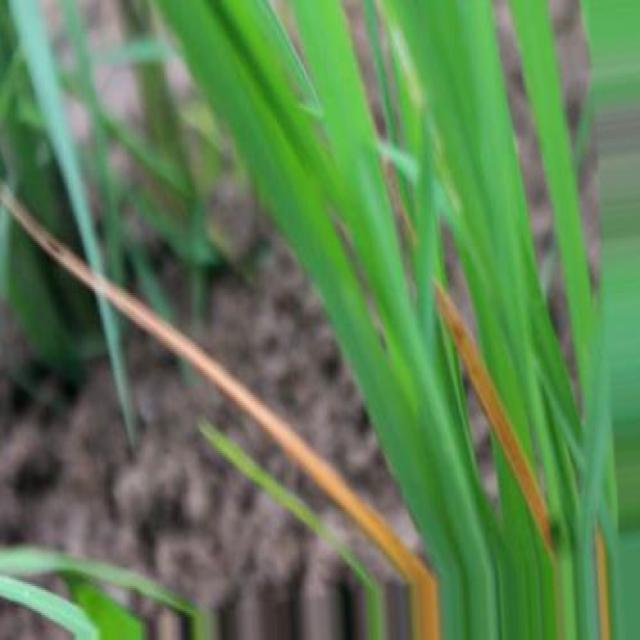Rice Tungro: (0, 185, 439, 639), (436, 282, 552, 553), (597, 526, 609, 640)
